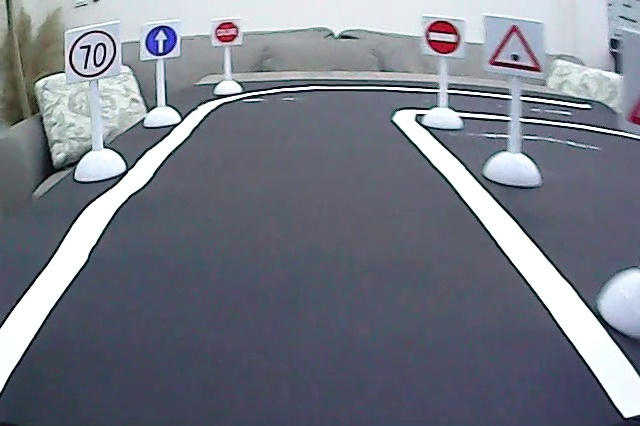do not enter: (424, 18, 462, 56)
green light: (485, 19, 547, 76)
speed limit 70: (65, 28, 118, 79)
stop sign: (212, 20, 241, 44)
